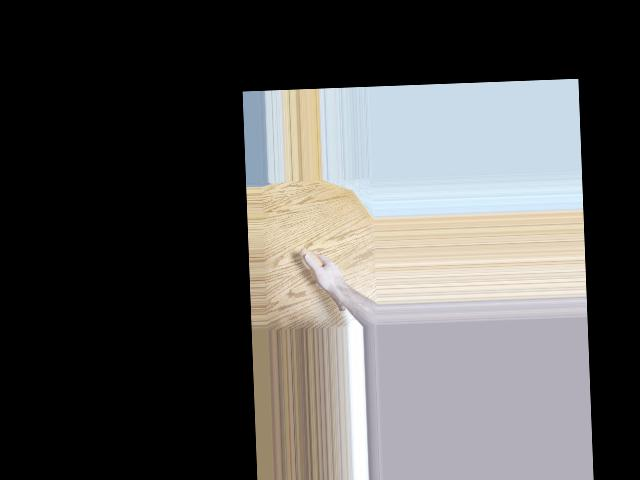sweet_potato: (300, 245, 348, 314)
